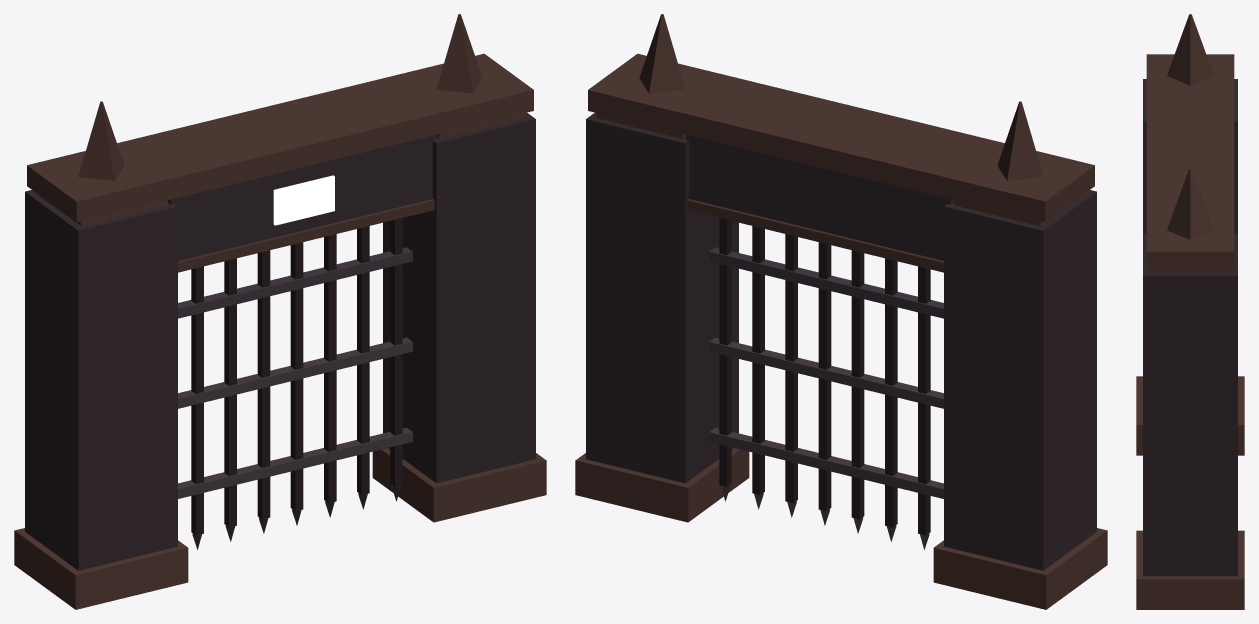
Rendered from arena_gate.glb.
The picture shows the model from 3 angles, left to right: view 1: azimuth 30°, elevation 25°; view 2: azimuth 150°, elevation 25°; view 3: azimuth 270°, elevation 25°; orthographic projection. The views are drawn at different scales.
Parts seen in each view (by area): view 1: arena_gate, Door; view 2: arena_gate, Door; view 3: arena_gate.
Part boxes in pixels (<box>): arena_gate: <box>14,14,546,609</box>; Door: <box>178,218,412,549</box>; arena_gate: <box>575,14,1107,609</box>; Door: <box>709,218,943,549</box>; arena_gate: <box>1136,14,1244,609</box>.
Bounding box in the file's own units: 7.1 × 6.8 × 1.6.
